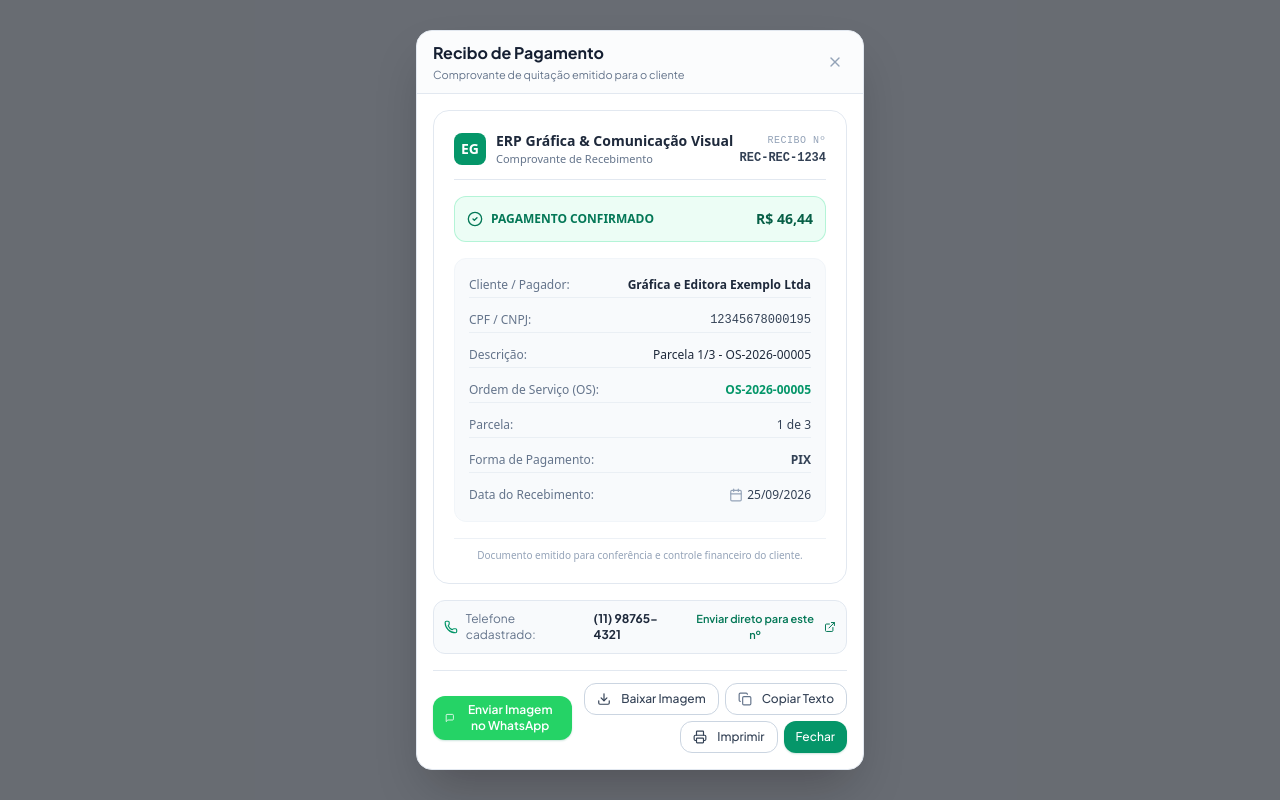
Test: PaymentReceiptModal component › on Desktop: opens WhatsApp Web synchronously to avoid pop-up blockers, copies to clipboard and reveals direct links
The width and height of the screenshot is (1280, 800).
Click the button "Enviar Imagem no WhatsApp" at (502, 718), box left=433, top=696, right=572, bottom=740
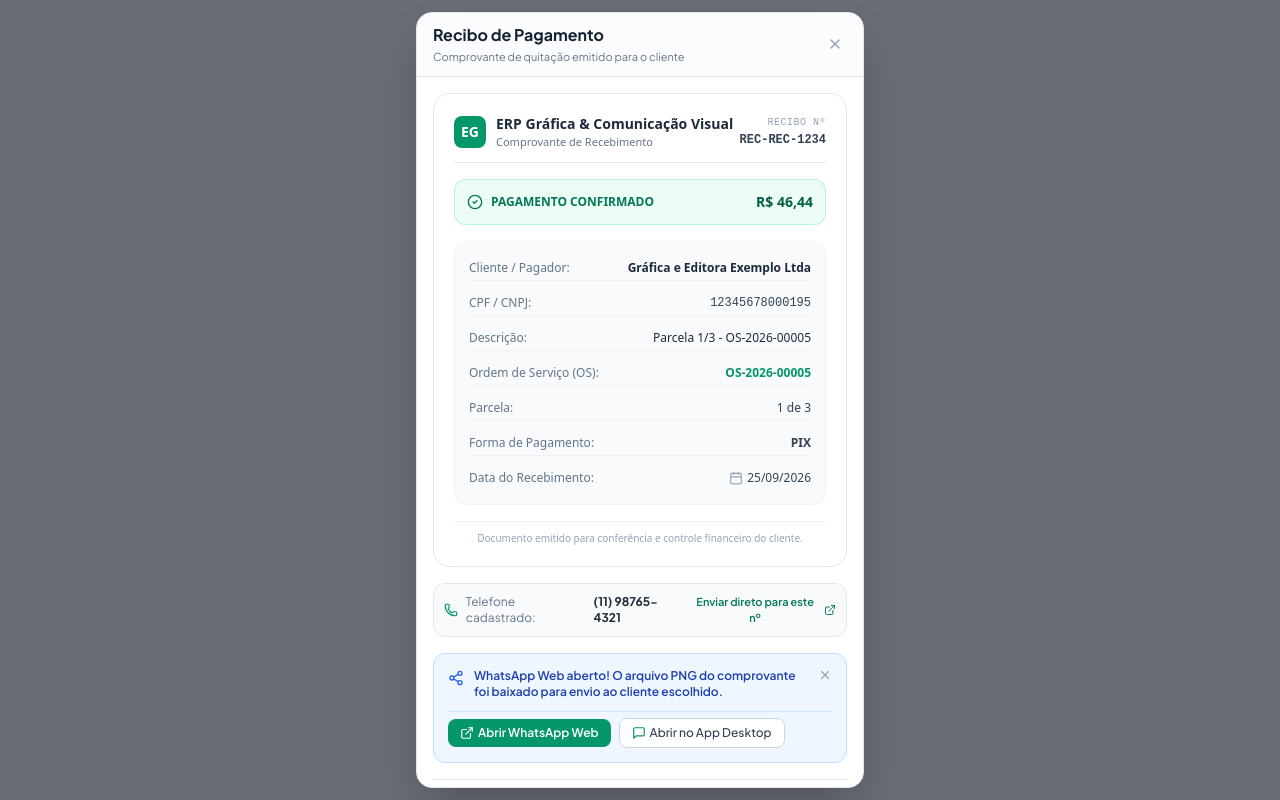
Expected: the link "Abrir WhatsApp Web" is shown, left=448, top=718, right=611, bottom=746
Expected: the link "Abrir no App Desktop" is shown, left=619, top=718, right=785, bottom=748
